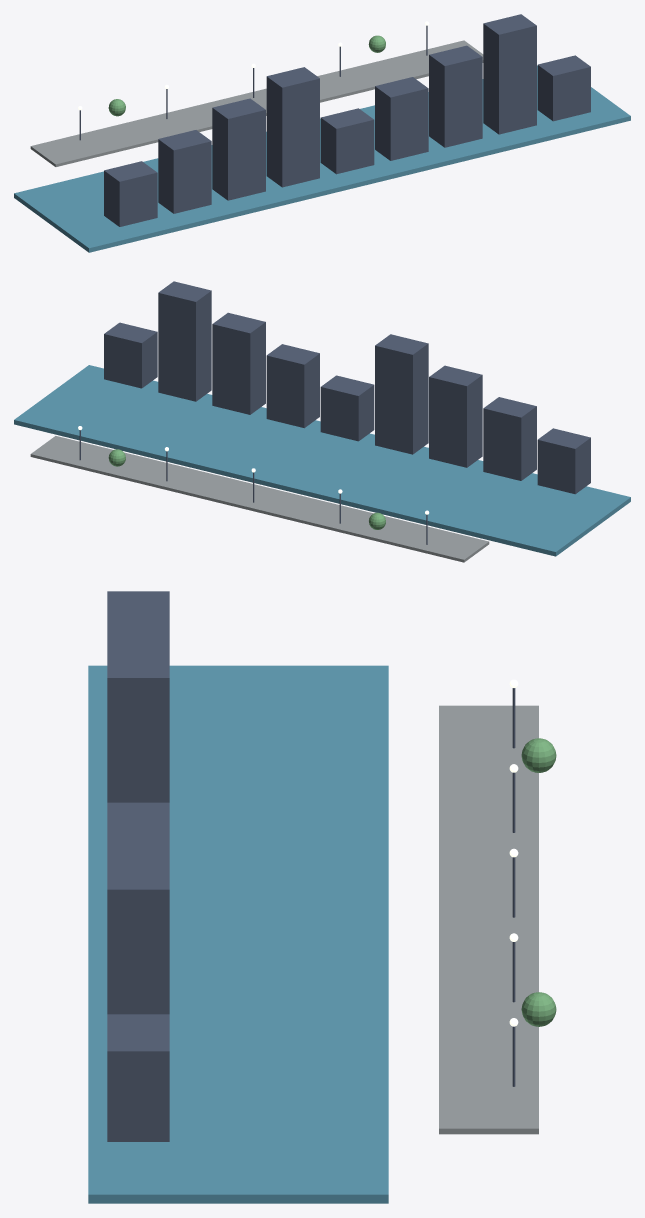
Rendered from costanera_visual_v1.glb.
3 views of the same model, one above another, from view 1: azimuth 30°, elevation 25°; view 2: azimuth 150°, elevation 25°; view 3: azimuth 270°, elevation 25° (orthographic). The views are drawn at different scales.
Parts seen in each view (by area): view 1: River, Walkway, Bldg7, Bldg3, Bldg2, Bldg6, Bldg1, Bldg5, Bldg4, Bldg0, Bldg8; view 2: River, Walkway, Bldg3, Bldg7, Bldg2, Bldg6, Bldg5, Bldg1, Bldg4, Bldg0, Bldg8; view 3: River, Walkway, Bldg7, Bldg3, Bldg8, Bldg4, Bldg0, Bldg1, Bldg2, Bldg5, Bldg6, Tree1 (+1 smaller).
Boxes of the visible parts, left/top/right/bottom form: River: left=14, top=65, right=630, bottom=252; Walkway: left=30, top=40, right=483, bottom=166; Bldg7: left=483, top=14, right=536, bottom=134; Bldg3: left=266, top=67, right=319, bottom=187; Bldg2: left=212, top=98, right=265, bottom=200; Bldg6: left=429, top=45, right=482, bottom=147; Bldg1: left=158, top=130, right=211, bottom=213; Bldg5: left=375, top=77, right=428, bottom=160; Bldg4: left=320, top=108, right=374, bottom=174; Bldg0: left=104, top=161, right=157, bottom=226; Bldg8: left=537, top=55, right=590, bottom=121; River: left=14, top=365, right=630, bottom=556; Walkway: left=30, top=436, right=489, bottom=562; Bldg3: left=375, top=334, right=428, bottom=454; Bldg7: left=158, top=281, right=211, bottom=401; Bldg2: left=429, top=365, right=482, bottom=467; Bldg6: left=212, top=312, right=265, bottom=414; Bldg5: left=266, top=344, right=319, bottom=428; Bldg1: left=483, top=397, right=536, bottom=480; Bldg4: left=320, top=375, right=374, bottom=441; Bldg0: left=537, top=428, right=590, bottom=494; Bldg8: left=104, top=322, right=157, bottom=388; River: left=88, top=665, right=388, bottom=1203; Walkway: left=439, top=705, right=538, bottom=1134; Bldg7: left=107, top=852, right=169, bottom=1014; Bldg3: left=107, top=641, right=169, bottom=802; Bldg8: left=107, top=1014, right=169, bottom=1141; Bldg4: left=107, top=802, right=169, bottom=819; Bldg0: left=107, top=591, right=169, bottom=607; Bldg1: left=107, top=608, right=169, bottom=624; Bldg2: left=107, top=624, right=169, bottom=640; Bldg5: left=107, top=819, right=169, bottom=835; Bldg6: left=107, top=836, right=169, bottom=852; Tree1: left=521, top=992, right=556, bottom=1026.
Bounding box in the file's own units: 50 × 10 × 18.7.
